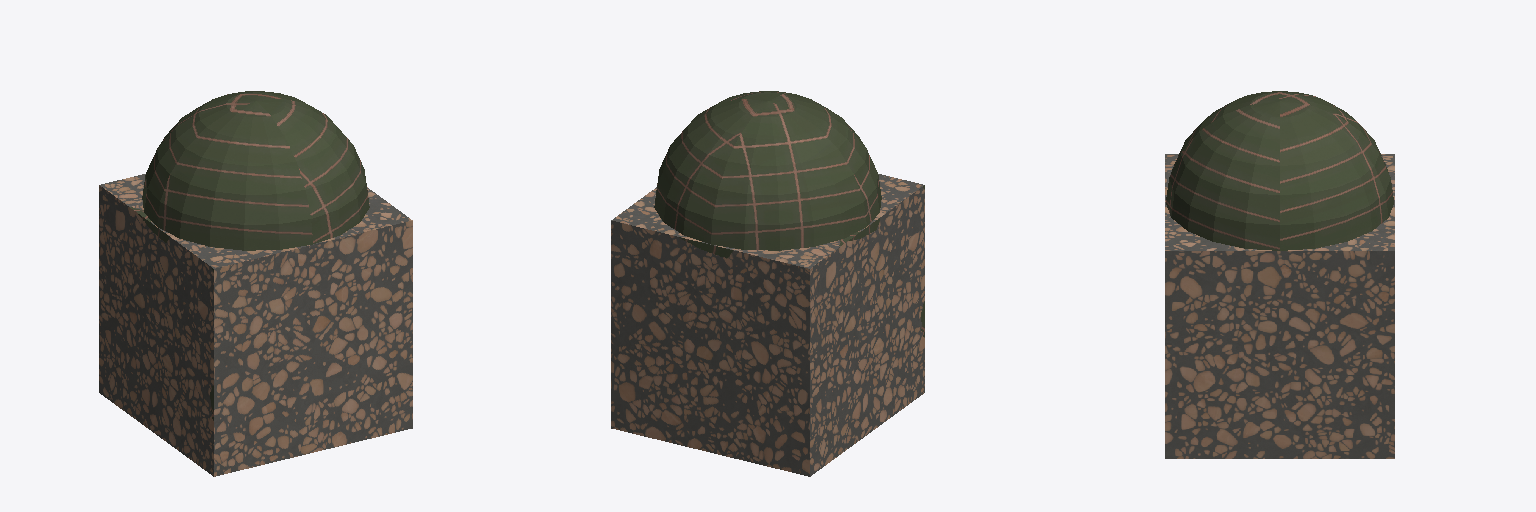
3 views of the same model, side by side, from view 1: azimuth 30°, elevation 25°; view 2: azimuth 150°, elevation 25°; view 3: azimuth 270°, elevation 25° (orthographic).
Visible parts, largest first — view 1: Cube, Sphere; view 2: Cube, Sphere; view 3: Cube, Sphere.
Part boxes in pixels (left/top/right/bottom): Cube: left=99, top=174, right=412, bottom=476; Sphere: left=142, top=91, right=369, bottom=250; Cube: left=611, top=174, right=924, bottom=476; Sphere: left=654, top=91, right=881, bottom=250; Cube: left=1165, top=154, right=1394, bottom=458; Sphere: left=1166, top=91, right=1393, bottom=250.
Size of the model in its own units: 2 by 2.97 by 2.
Materials: 1 (1 with a texture image).